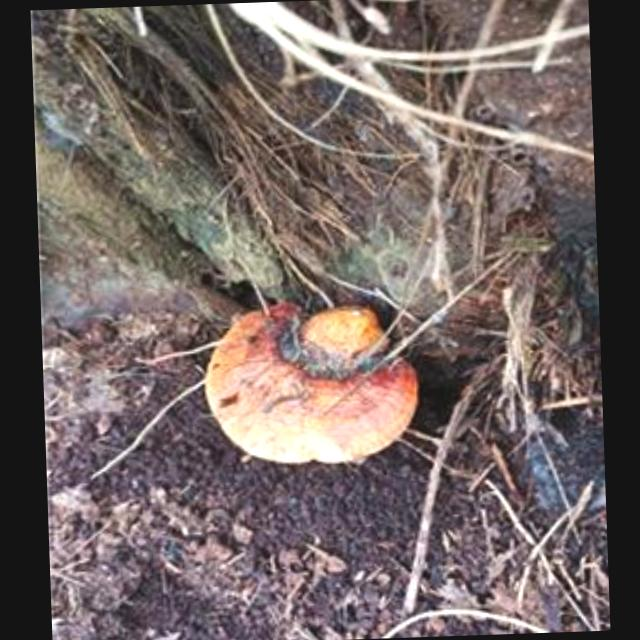ganoderma: (200, 295, 424, 475)
